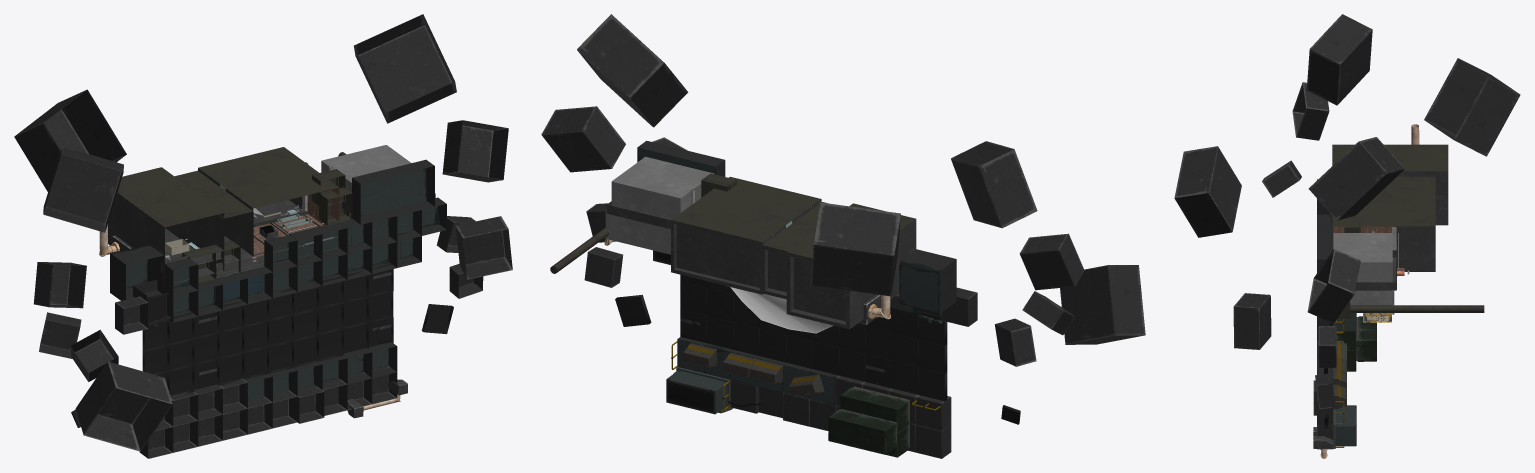
3 views of the same model, side by side, from view 1: azimuth 30°, elevation 25°; view 2: azimuth 150°, elevation 25°; view 3: azimuth 270°, elevation 25° (orthographic). The views are drawn at different scales.
Visible parts, largest first — view 1: S_Outworld_prop_longmen_089, S_Outworld_prop_longmen_0171, S_Outworld_prop_longmen_097, S_Outworld_prop_longmen_0176, S_Outworld_prop_longmen_091, S_Ground_tiles_longmen_015, S_Outworld_prop_longmen_0186, S_Outworld_prop_longmen_0230, S_Outworld_prop_longmen_086, S_Outworld_prop_longmen_0181, S_Ground_tiles_longmen_041, S_Ground_tiles_longmen_0175 (+65 smaller); view 2: S_Outworld_prop_longmen_089, S_Outworld_prop_longmen_0171, S_Outworld_prop_longmen_091, S_Outworld_prop_longmen_097, S_Outworld_prop_longmen_0176, S_Outworld_prop_longmen_0181, S_Outworld_prop_longmen_0230, S_Outworld_prop_longmen_086, S_Outworld_prop_longmen_0202, S_Outworld_prop_longmen_0186, S_Outworld_prop_04, S_Outworld_prop_longmen_0199 (+31 smaller); view 3: S_Outworld_prop_longmen_089, S_Outworld_prop_longmen_091, S_Outworld_prop_longmen_0171, S_Outworld_prop_longmen_097, S_Outworld_prop_longmen_0181, S_Outworld_prop_longmen_0176, S_Outworld_prop_longmen_0230, S_Outworld_prop_04, S_Outworld_prop_longmen_0202, S_Ground_tiles_longmen_015, S_Outworld_prop_longmen_0186, S_Outworld_prop_longmen_0229.
Boxes of the visible parts, box(x1,y1,x2,y2) form: S_Outworld_prop_longmen_089: box(33, 120, 512, 451); S_Outworld_prop_longmen_0171: box(198, 147, 339, 257); S_Outworld_prop_longmen_097: box(354, 14, 456, 123); S_Outworld_prop_longmen_0176: box(108, 167, 224, 285); S_Outworld_prop_longmen_091: box(14, 89, 126, 191); S_Ground_tiles_longmen_015: box(352, 159, 434, 224); S_Outworld_prop_longmen_0186: box(172, 170, 253, 263); S_Outworld_prop_longmen_0230: box(99, 152, 435, 272); S_Outworld_prop_longmen_086: box(110, 245, 163, 300); S_Outworld_prop_longmen_0181: box(321, 145, 418, 201); S_Ground_tiles_longmen_041: box(291, 386, 324, 423); S_Ground_tiles_longmen_0175: box(165, 258, 198, 296); S_Outworld_prop_longmen_089: box(541, 106, 1145, 424); S_Outworld_prop_longmen_0171: box(671, 176, 821, 294); S_Outworld_prop_longmen_091: box(810, 202, 900, 296); S_Outworld_prop_longmen_097: box(577, 14, 688, 127); S_Outworld_prop_longmen_0176: box(786, 203, 916, 329); S_Outworld_prop_longmen_0181: box(611, 156, 714, 220); S_Outworld_prop_longmen_0230: box(550, 189, 890, 324); S_Outworld_prop_longmen_086: box(899, 249, 956, 313); S_Outworld_prop_longmen_0202: box(828, 409, 896, 454); S_Outworld_prop_longmen_0186: box(762, 202, 827, 299); S_Outworld_prop_04: box(666, 367, 730, 414); S_Outworld_prop_longmen_0199: box(840, 386, 909, 433); S_Outworld_prop_longmen_089: box(1174, 14, 1372, 428); S_Outworld_prop_longmen_091: box(1424, 58, 1520, 156); S_Outworld_prop_longmen_0171: box(1332, 187, 1435, 271); S_Outworld_prop_longmen_097: box(1308, 137, 1404, 220); S_Outworld_prop_longmen_0181: box(1333, 233, 1392, 305); S_Outworld_prop_longmen_0176: box(1332, 144, 1448, 225); S_Outworld_prop_longmen_0230: box(1335, 124, 1484, 322); S_Outworld_prop_04: box(1333, 405, 1356, 448); S_Outworld_prop_longmen_0202: box(1356, 316, 1376, 361); S_Ground_tiles_longmen_015: box(1317, 226, 1333, 272); S_Outworld_prop_longmen_0186: box(1332, 176, 1435, 223); S_Outworld_prop_longmen_0229: box(1313, 427, 1333, 458).
Bounding box in the file's own units: 0.197 × 0.1398 × 0.1301.
3 materials, 3 textured.
